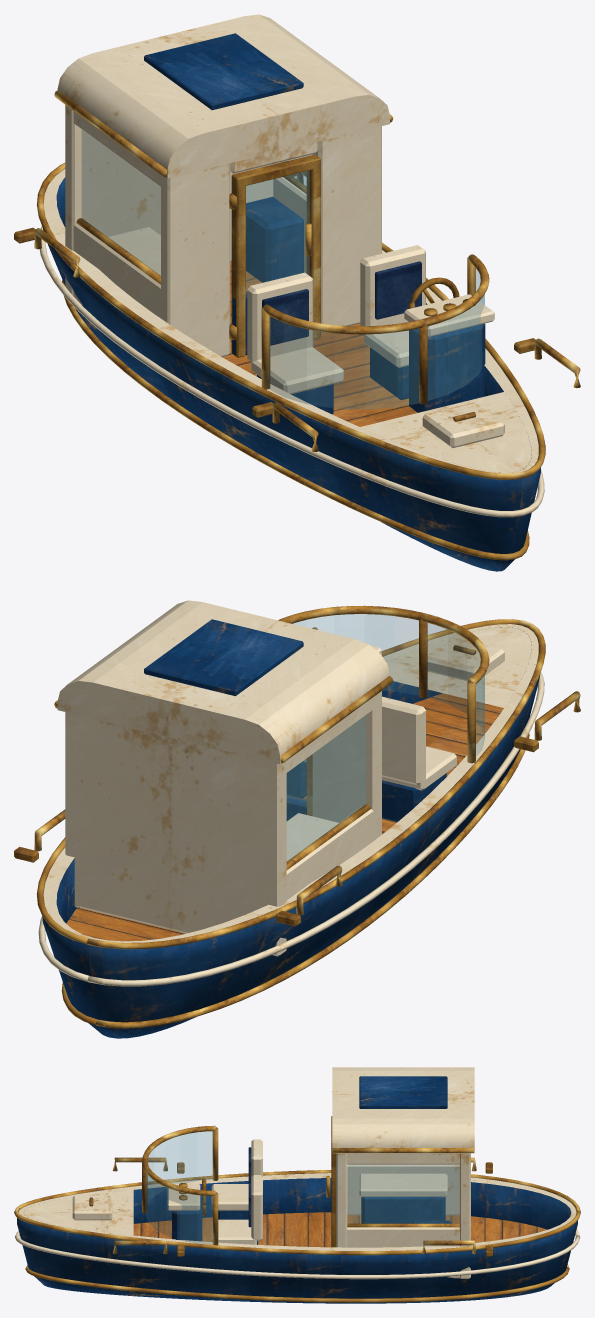
The model's file is harbor_launch.glb.
The picture shows the model from 3 angles, top to bottom: view 1: azimuth 30°, elevation 25°; view 2: azimuth 150°, elevation 25°; view 3: azimuth 270°, elevation 25°; orthographic projection. The views are drawn at different scales.
Visible parts, largest first — view 1: Hollow_navy_hull_shell, Removable_rounded_ivory_cabin_roof, FRONT_door_sidewall.001, FRONT_door_sidewall, LEFT_cabin_glass, Navy_roof_access_panel, Cabin_entry_glass, BACK_cabin_wall, Ivory_walkaround_gunwale, Continuous_rubbing_strake, Ivory_solid_foredeck, Usable_interior_deck (+39 smaller); view 2: BACK_cabin_wall, Hollow_navy_hull_shell, Removable_rounded_ivory_cabin_roof, LEFT_cabin_glass, Navy_roof_access_panel, Ivory_walkaround_gunwale, Continuous_rubbing_strake, Usable_interior_deck, Continuous_rubbing_strake.001, Ivory_solid_foredeck, FRONT_door_sidewall, Continuous_rubbing_strake.002 (+24 smaller); view 3: Hollow_navy_hull_shell, Removable_rounded_ivory_cabin_roof, RIGHT_cabin_glass, Usable_interior_deck, Continuous_rubbing_strake, Ivory_walkaround_gunwale, Navy_roof_access_panel, Continuous_rubbing_strake.001, Continuous_rubbing_strake.002, Ivory_solid_foredeck, LEFT_cabin_lower, RIGHT_cabin_lower (+30 smaller).
Boxes of the visible parts, <box> form: Hollow_navy_hull_shell: <box>43,177,540,571</box>; Removable_rounded_ivory_cabin_roof: <box>57,14,389,178</box>; FRONT_door_sidewall.001: <box>312,128,372,332</box>; FRONT_door_sidewall: <box>179,163,230,357</box>; LEFT_cabin_glass: <box>82,130,160,276</box>; Navy_roof_access_panel: <box>144,33,303,110</box>; Cabin_entry_glass: <box>246,170,309,293</box>; BACK_cabin_wall: <box>84,133,276,261</box>; Ivory_walkaround_gunwale: <box>43,169,538,473</box>; Continuous_rubbing_strake: <box>36,163,545,479</box>; Ivory_solid_foredeck: <box>360,392,531,472</box>; Usable_interior_deck: <box>222,262,515,472</box>; BACK_cabin_wall: <box>75,715,267,933</box>; Hollow_navy_hull_shell: <box>42,627,540,1038</box>; Removable_rounded_ivory_cabin_roof: <box>57,600,389,764</box>; LEFT_cabin_glass: <box>287,715,365,861</box>; Navy_roof_access_panel: <box>144,619,303,696</box>; Ivory_walkaround_gunwale: <box>43,624,538,942</box>; Continuous_rubbing_strake: <box>36,619,545,949</box>; Usable_interior_deck: <box>66,693,503,941</box>; Continuous_rubbing_strake.001: <box>38,672,544,986</box>; Ivory_solid_foredeck: <box>386,627,531,707</box>; FRONT_door_sidewall: <box>312,717,363,822</box>; Continuous_rubbing_strake.002: <box>61,733,529,1028</box>; Hollow_navy_hull_shell: <box>17,1178,577,1303</box>; Removable_rounded_ivory_cabin_roof: <box>332,1067,474,1153</box>; RIGHT_cabin_glass: <box>348,1165,458,1223</box>; Usable_interior_deck: <box>133,1212,546,1247</box>; Continuous_rubbing_strake: <box>14,1170,580,1255</box>; Ivory_walkaround_gunwale: <box>18,1173,576,1250</box>; Navy_roof_access_panel: <box>359,1076,447,1108</box>; Continuous_rubbing_strake.001: <box>15,1229,579,1279</box>; Continuous_rubbing_strake.002: <box>25,1264,569,1302</box>; Ivory_solid_foredeck: <box>23,1190,133,1235</box>; LEFT_cabin_lower: <box>347,1164,459,1215</box>; RIGHT_cabin_lower: <box>346,1227,459,1278</box>.
Bounding box in the file's own units: 3.36 × 3.39 × 8.99.
Materials: 9 (9 with a texture image).
